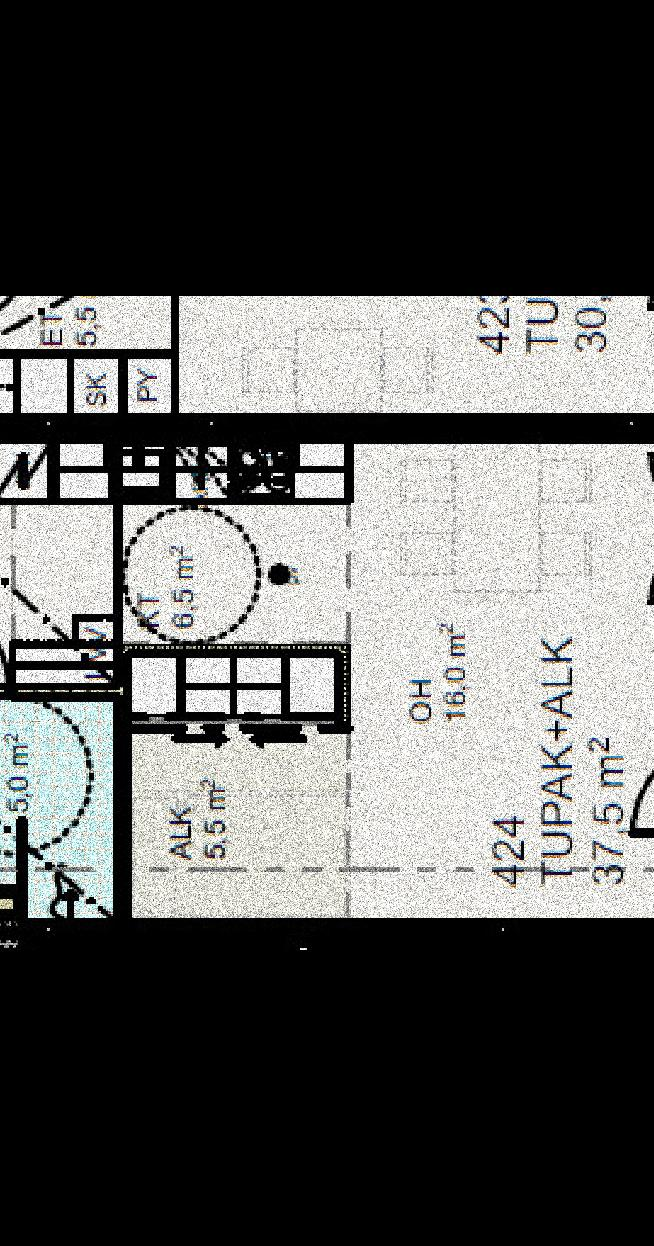door: (619, 746, 654, 844)
zone: (344, 442, 654, 916), (126, 435, 348, 717), (178, 297, 654, 409), (131, 723, 347, 926), (0, 437, 108, 686), (0, 694, 116, 923), (0, 299, 173, 419)
